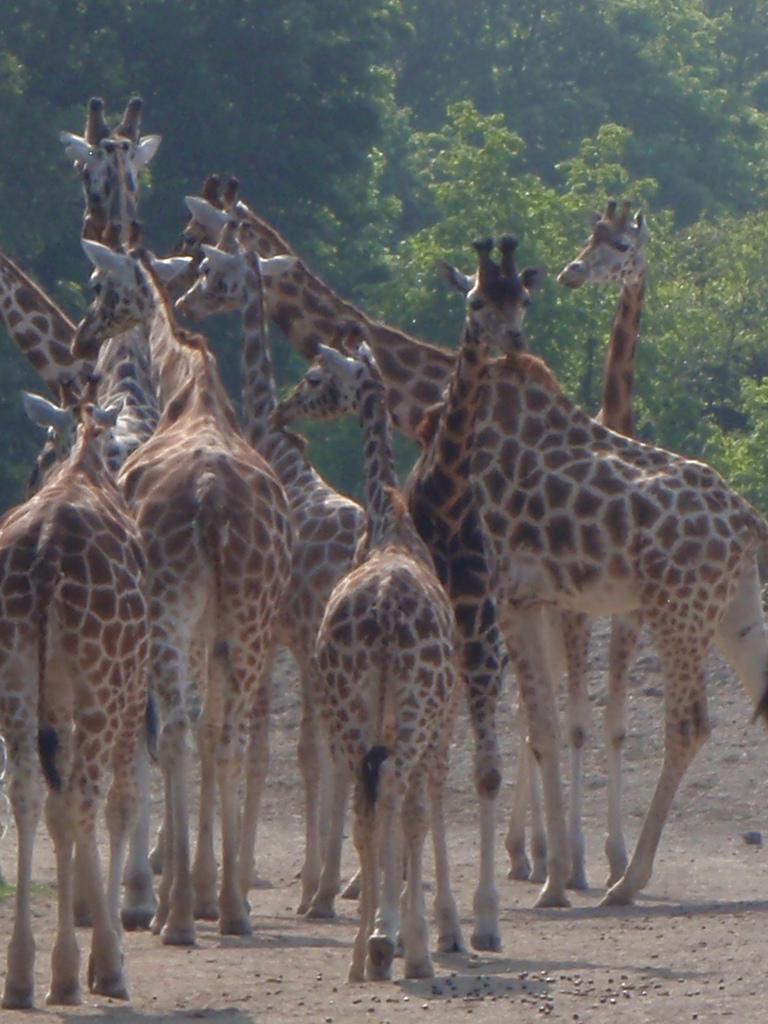giraffe: (200, 184, 765, 589), (87, 250, 283, 934), (276, 341, 479, 993), (21, 401, 148, 979), (417, 215, 541, 694), (553, 193, 715, 462), (66, 82, 200, 346)
